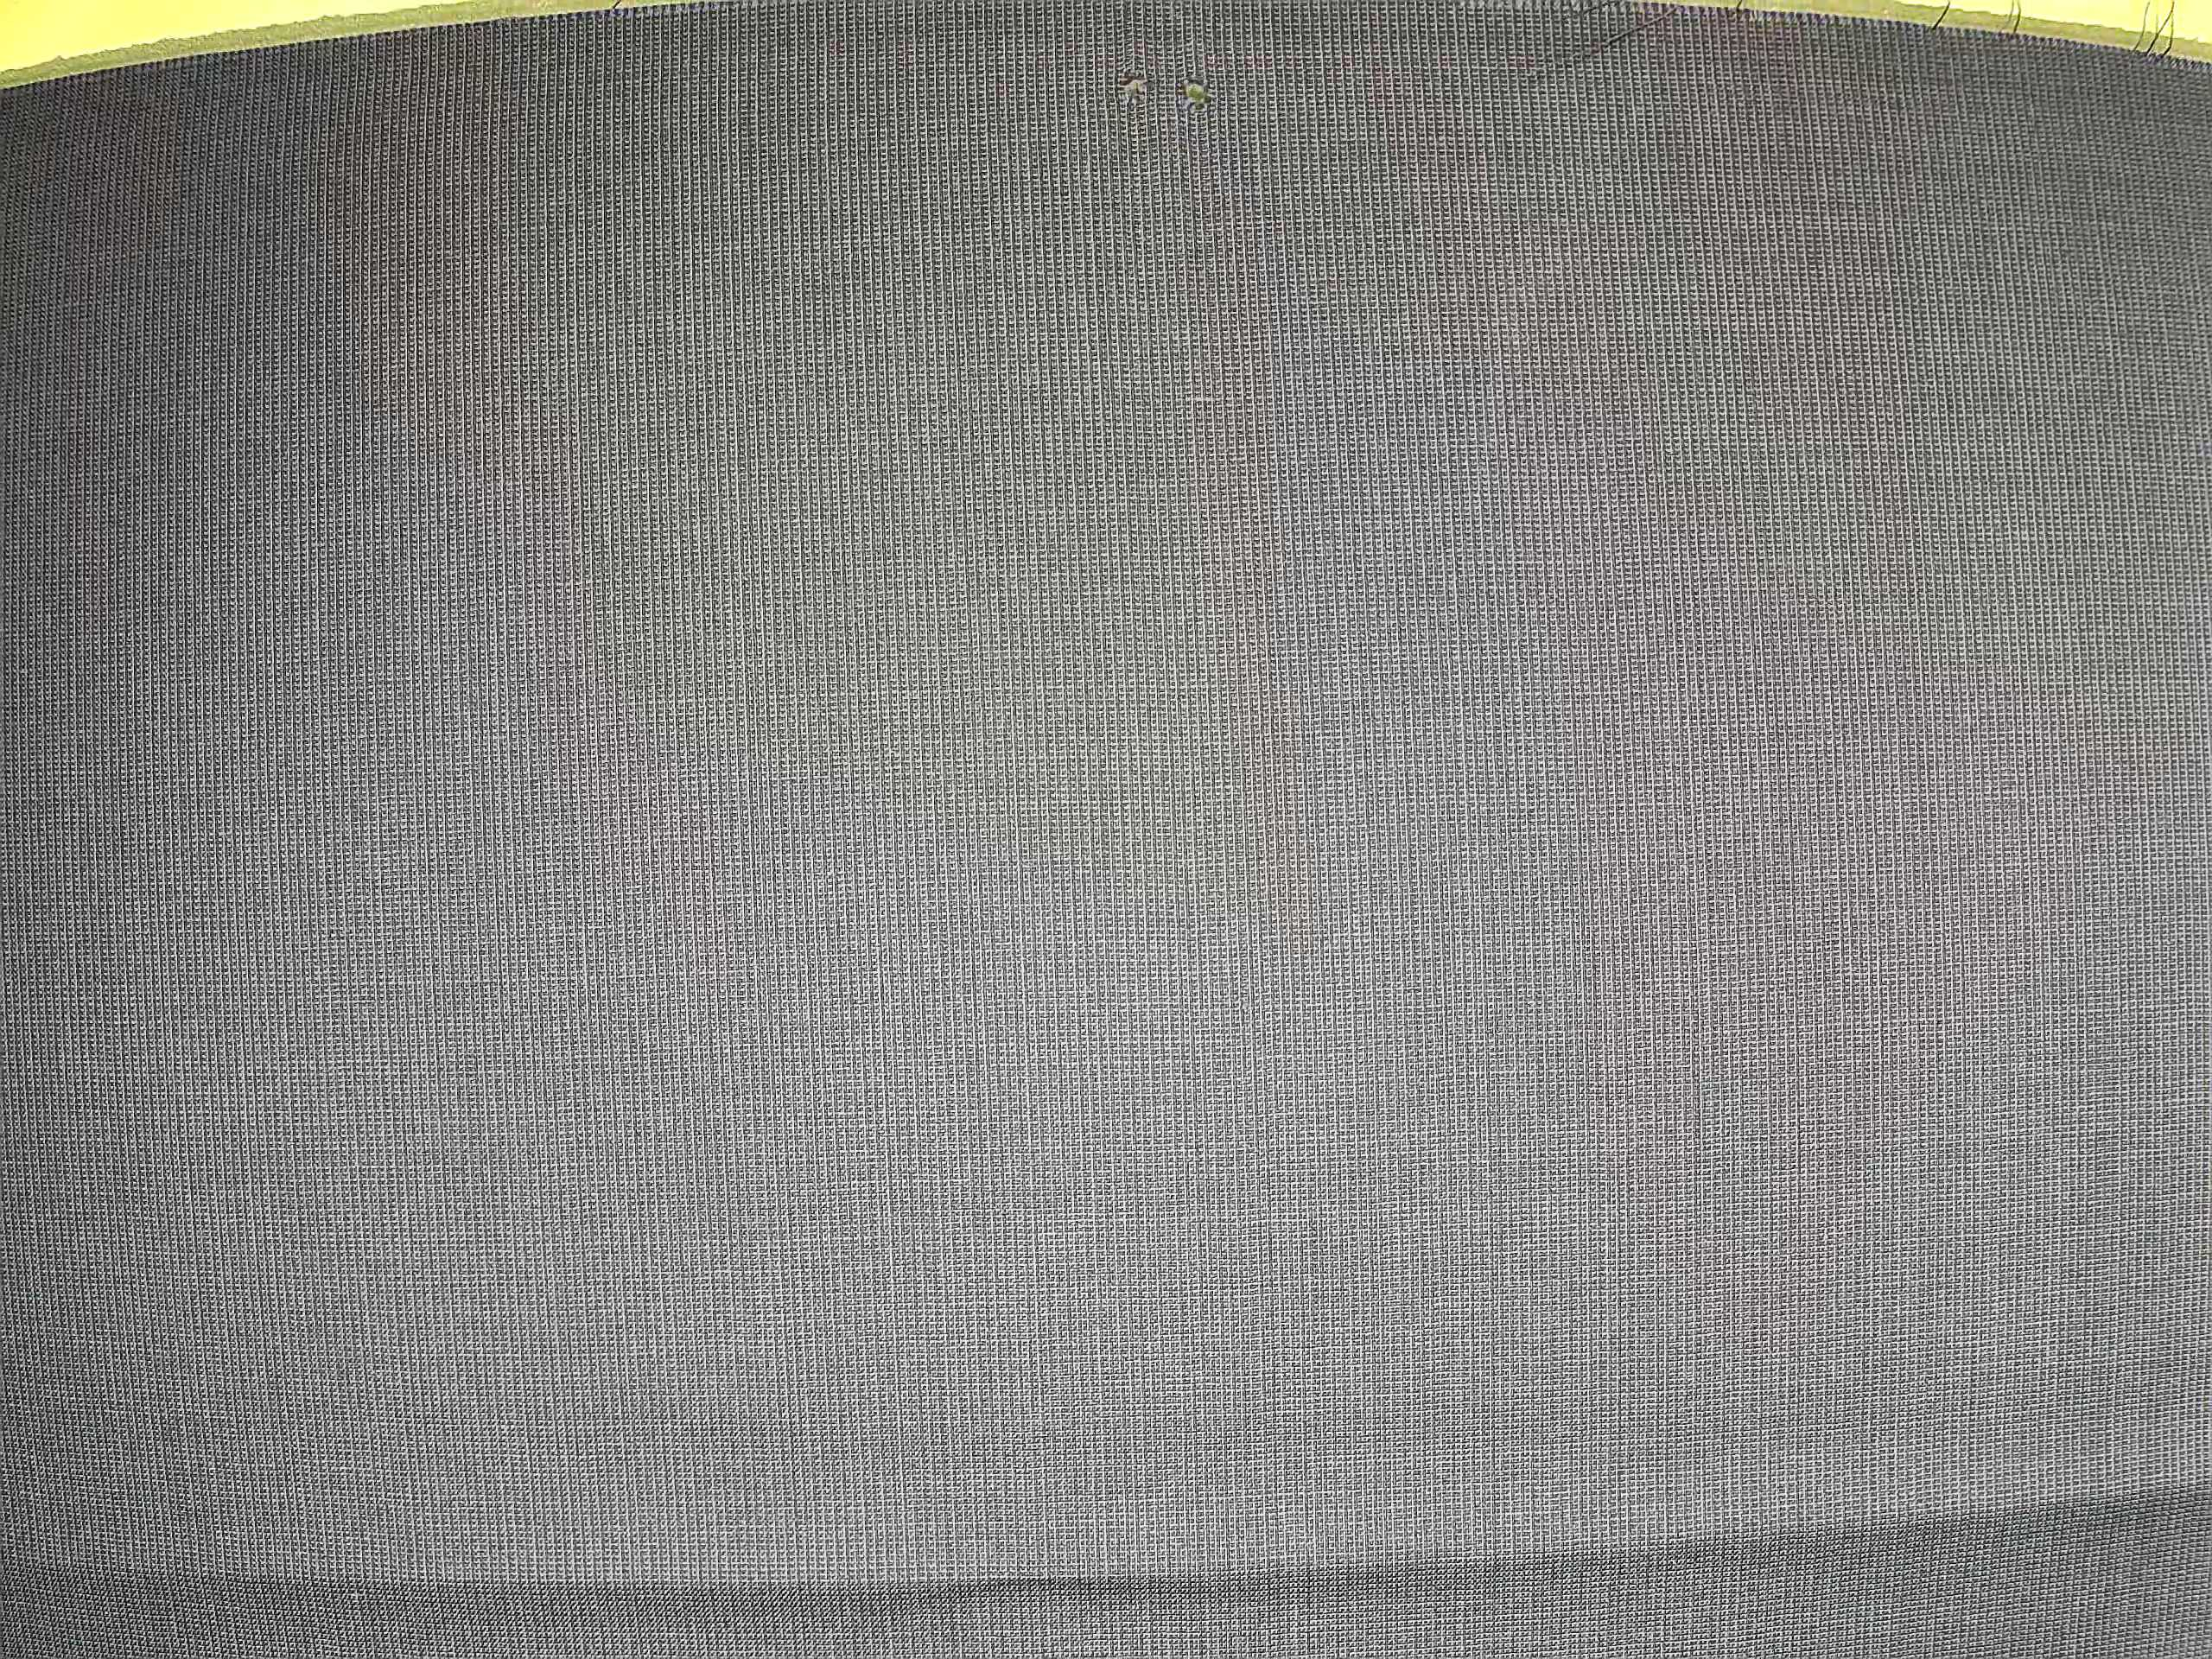rubbing-hole: (1109, 58, 1224, 129)
